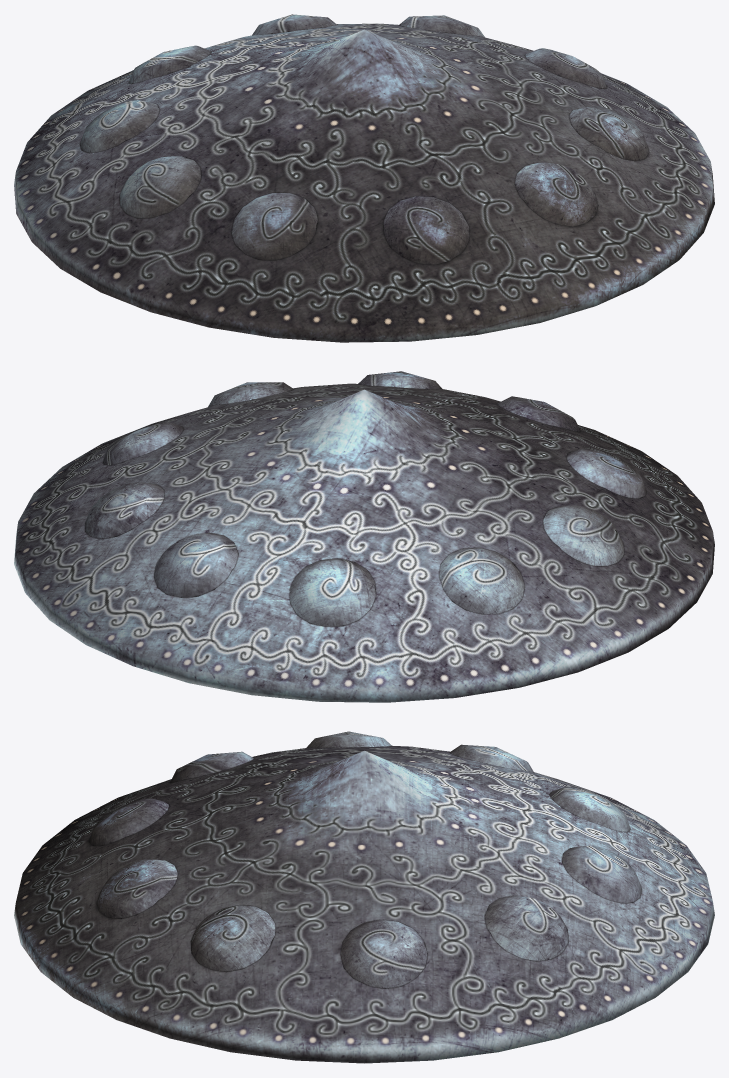
Rendered from Buckler_B.FBX.
The picture shows the model from 3 angles, top to bottom: view 1: azimuth 30°, elevation 25°; view 2: azimuth 150°, elevation 25°; view 3: azimuth 270°, elevation 25°; orthographic projection.
Parts seen in each view (by area): view 1: Bulcker_B; view 2: Bulcker_B; view 3: Bulcker_B.
Part boxes in pixels (x1,y1,x2,y2): Bulcker_B: [14, 14, 714, 342]; Bulcker_B: [14, 371, 714, 702]; Bulcker_B: [14, 731, 714, 1063].
Bounding box in the file's own units: 38.54 × 10.13 × 38.54.
